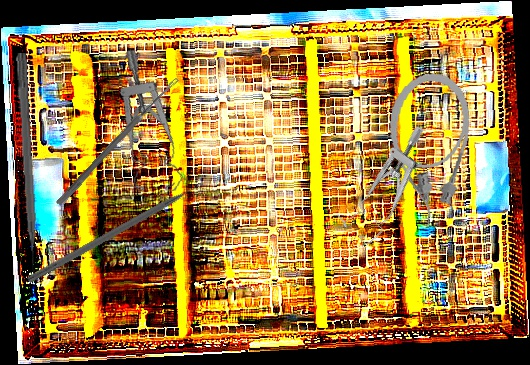Cannula: (376, 68, 477, 229)
Chopper: (26, 177, 216, 293)
Pusher: (14, 52, 39, 279)
Speculum: (326, 122, 456, 250), (100, 48, 205, 199)
Surgical Spoon: (55, 74, 181, 208)
